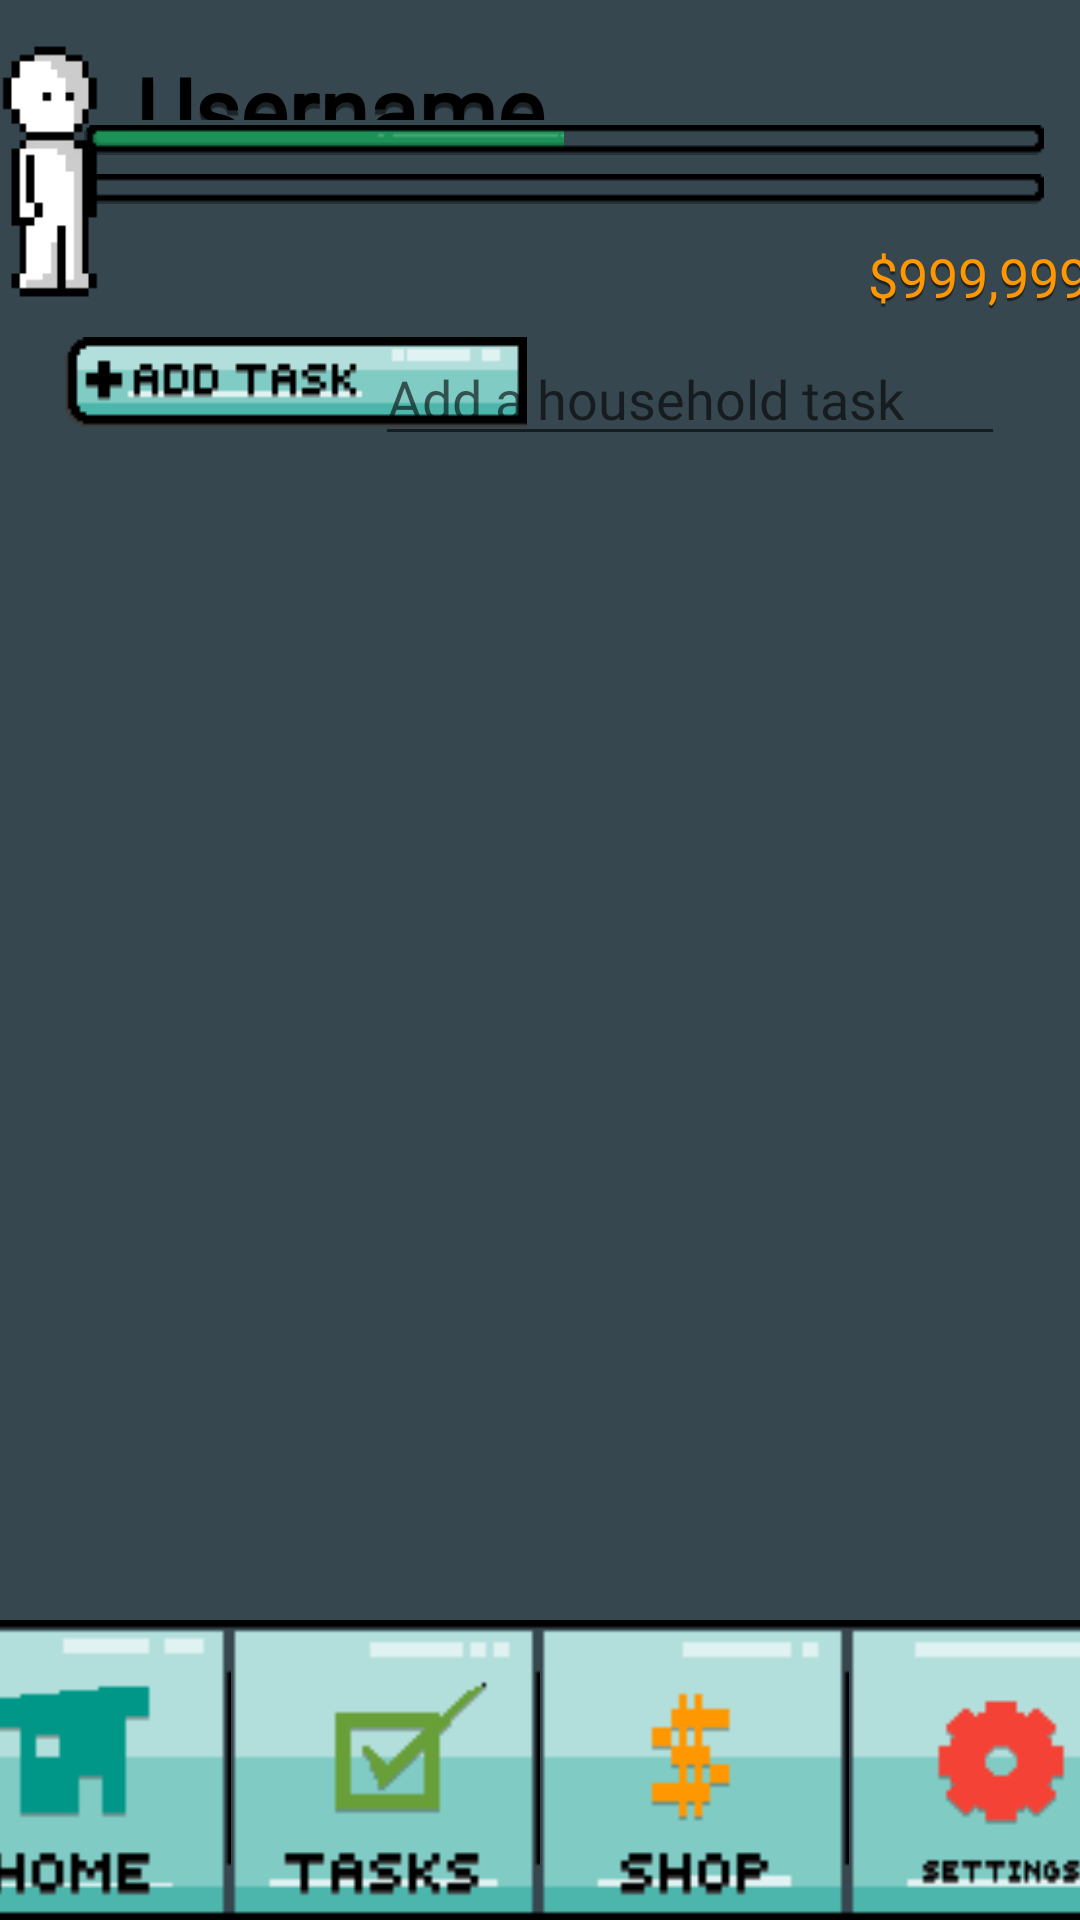

Locate icon controls on the screen. Image size 1080px x 1920px, boxes as (left=x1, top=y1, right=x2, bottom=y2).
sprite: (left=3, top=46, right=101, bottom=297)
